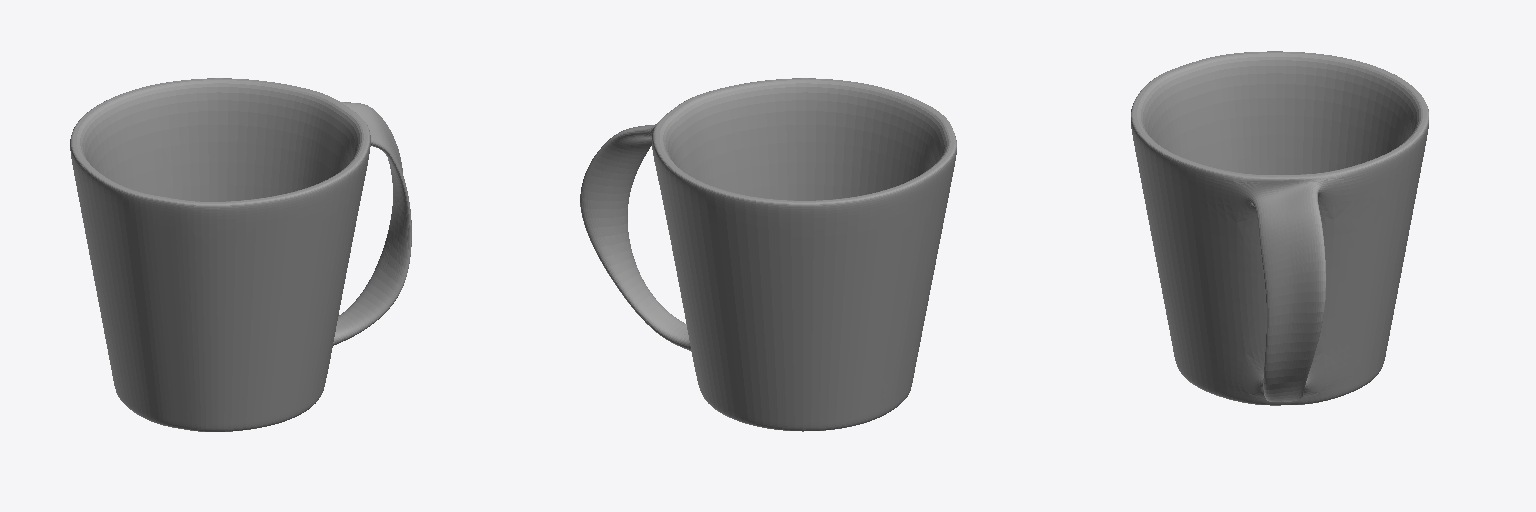
The model's file is Cup_1.obj.
3 views of the same model, side by side, from view 1: azimuth 30°, elevation 25°; view 2: azimuth 150°, elevation 25°; view 3: azimuth 270°, elevation 25° (orthographic).
Parts seen in each view (by area): view 1: Cup_1_Cylinder.005; view 2: Cup_1_Cylinder.005; view 3: Cup_1_Cylinder.005.
Part boxes in pixels (left/top/right/bottom): Cup_1_Cylinder.005: left=70, top=78, right=411, bottom=431; Cup_1_Cylinder.005: left=580, top=78, right=956, bottom=431; Cup_1_Cylinder.005: left=1131, top=51, right=1428, bottom=405.
Size of the model in its own units: 0.1118 by 0.0799 by 0.087.